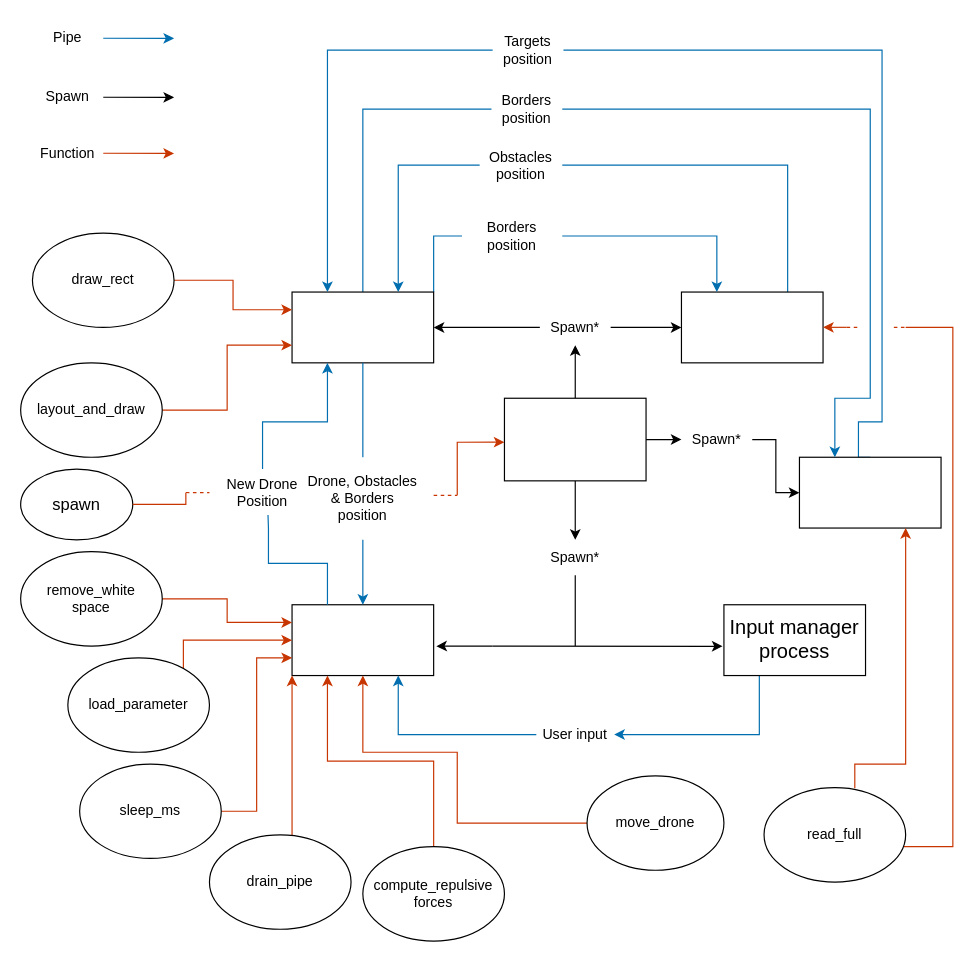
This 975x962 diagram has some shape labels left out. The shapes that lost their labels are listed below. From the top down, each one's centre as x and y in pixels, then its label:
the point at 362,327: Blackboard process
the point at 751,327: Obstacles process
the point at 574,439: Master process
the point at 869,492: Targets process
the point at 362,640: Drone process
